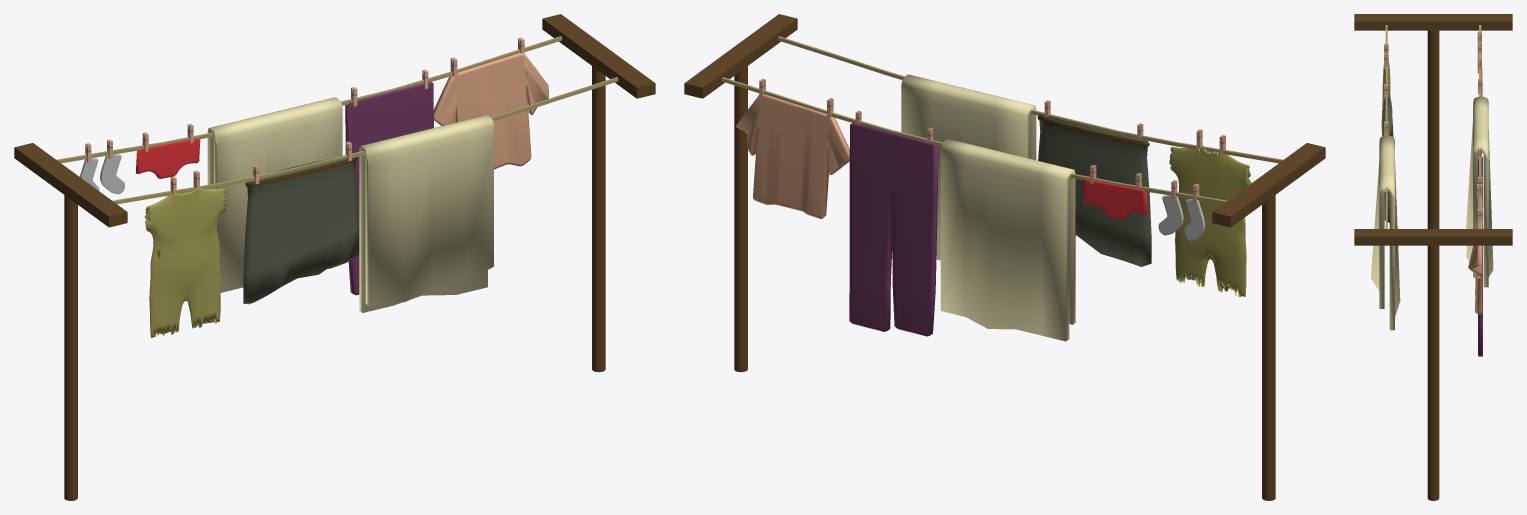
The model's file is clothesLine.fbx.
3 views of the same model, side by side, from view 1: azimuth 30°, elevation 25°; view 2: azimuth 150°, elevation 25°; view 3: azimuth 270°, elevation 25° (orthographic). The views are drawn at different scales.
Visible parts, largest first — view 1: Clothes Line; view 2: Clothes Line; view 3: Clothes Line.
Boxes of the visible parts, left/top/right/bottom form: Clothes Line: left=14, top=14, right=655, bottom=500; Clothes Line: left=684, top=14, right=1325, bottom=500; Clothes Line: left=1354, top=14, right=1512, bottom=500.
Bounding box in the file's own units: 282 × 84.59 × 159.
